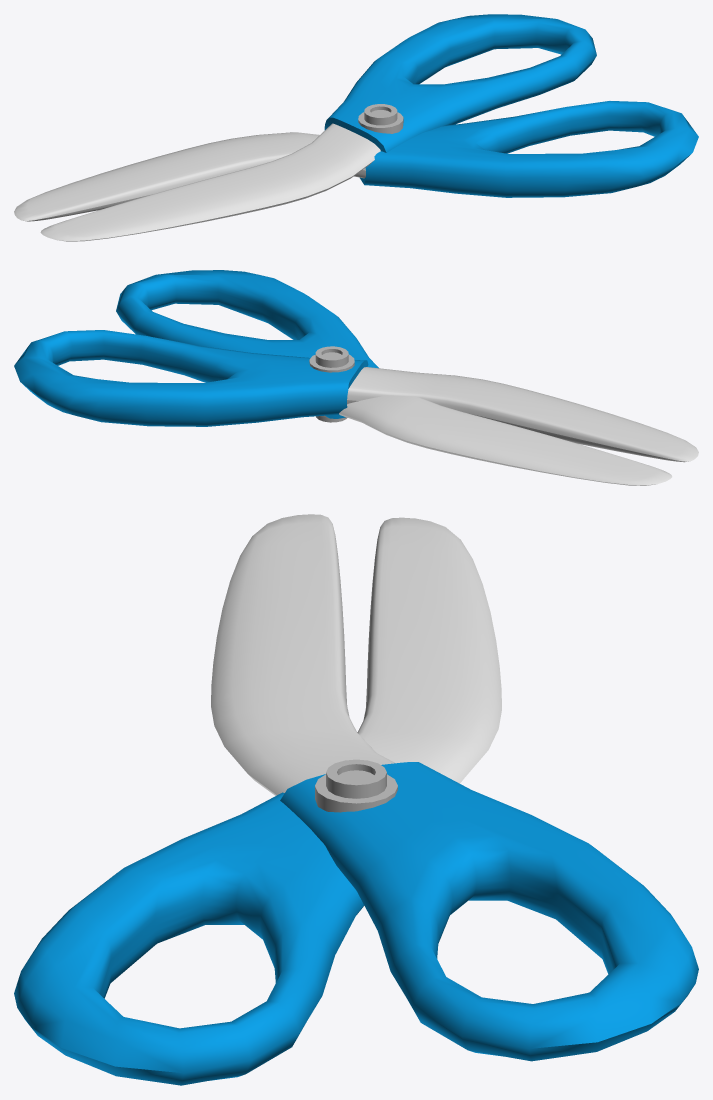
The model's file is Scissors01.fbx.
3 views of the same model, one above another, from view 1: azimuth 30°, elevation 25°; view 2: azimuth 150°, elevation 25°; view 3: azimuth 270°, elevation 25° (orthographic). The views are drawn at different scales.
Visible parts, largest first — view 1: Scissors01; view 2: Scissors01; view 3: Scissors01.
Boxes of the visible parts, x1,y1,x2,y2 form: Scissors01: (14, 14, 698, 241); Scissors01: (14, 270, 698, 485); Scissors01: (14, 514, 698, 1085).
Size of the model in its own units: 0.1779 by 0.0951 by 0.0173.
